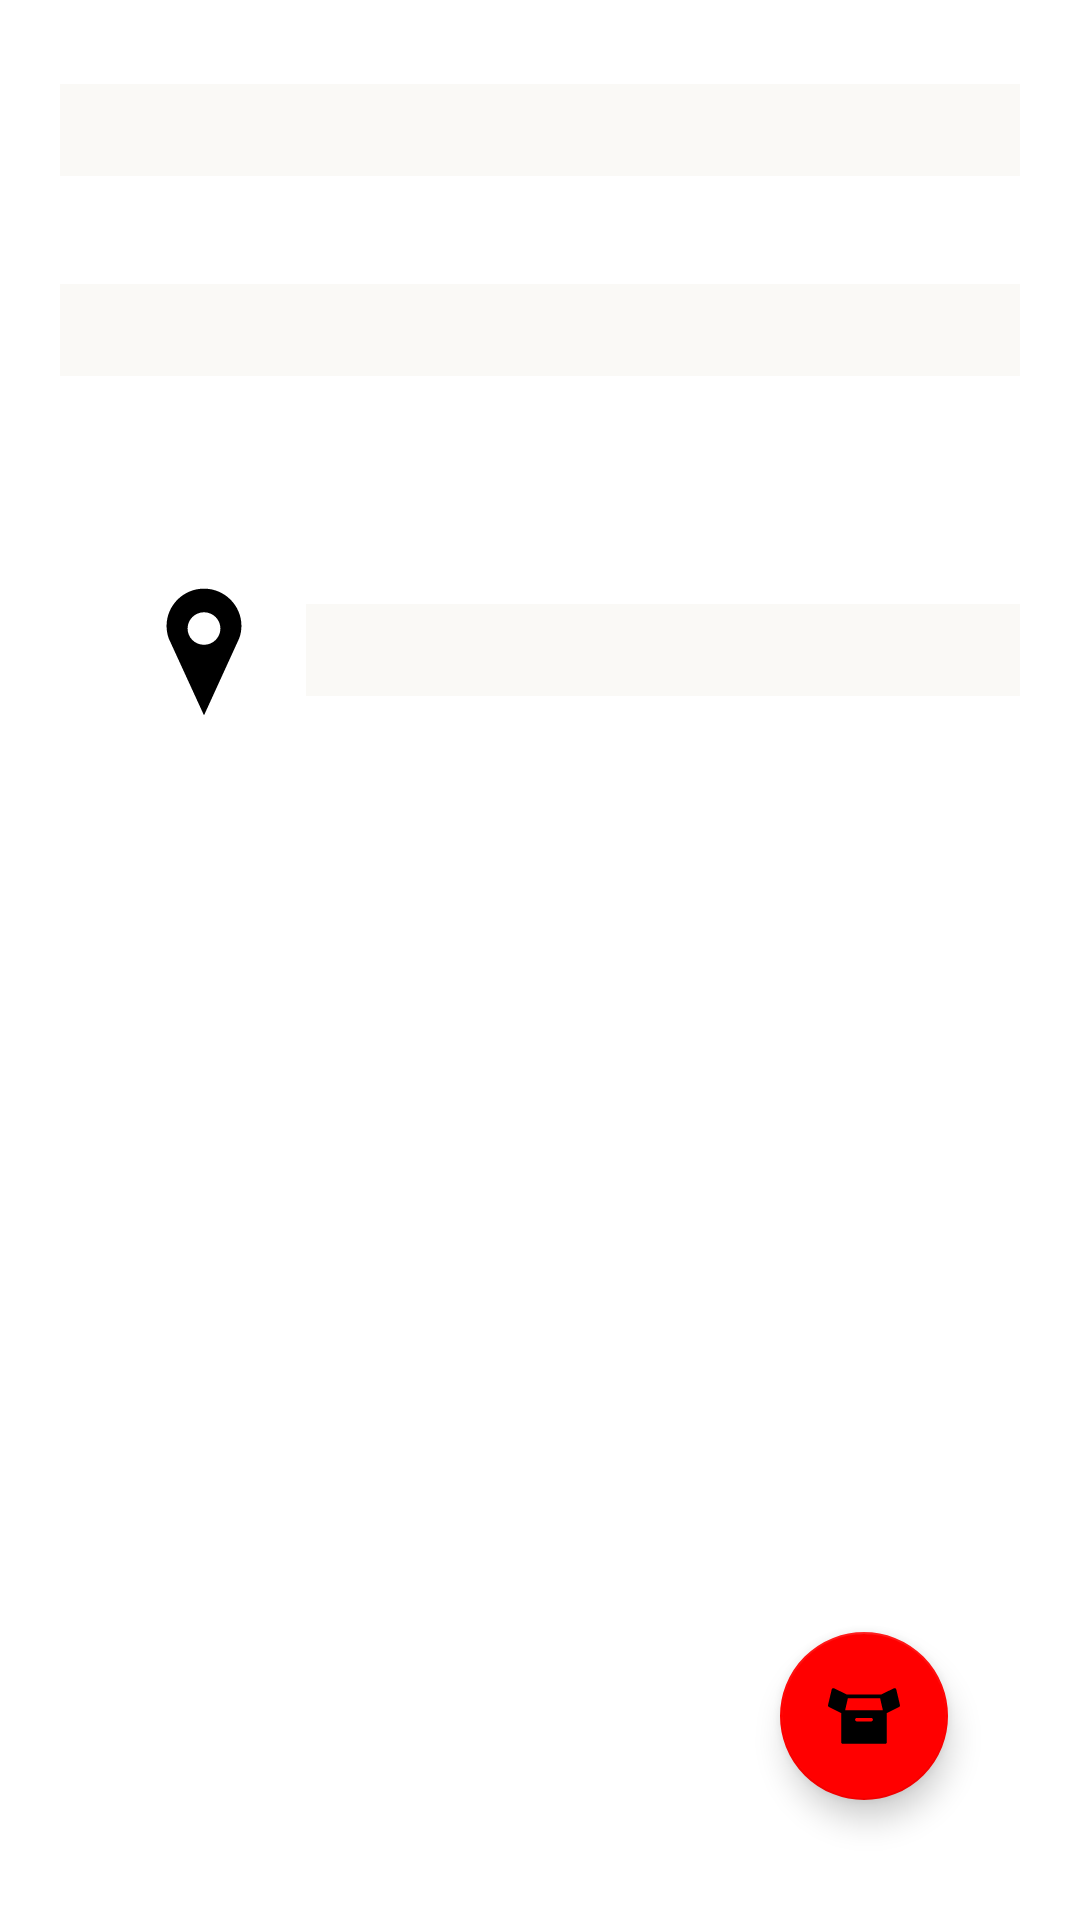

Icon click points for this 1080px x 1920px phone screenshot, format (x=x, y=y):
location: (x=204, y=651)
